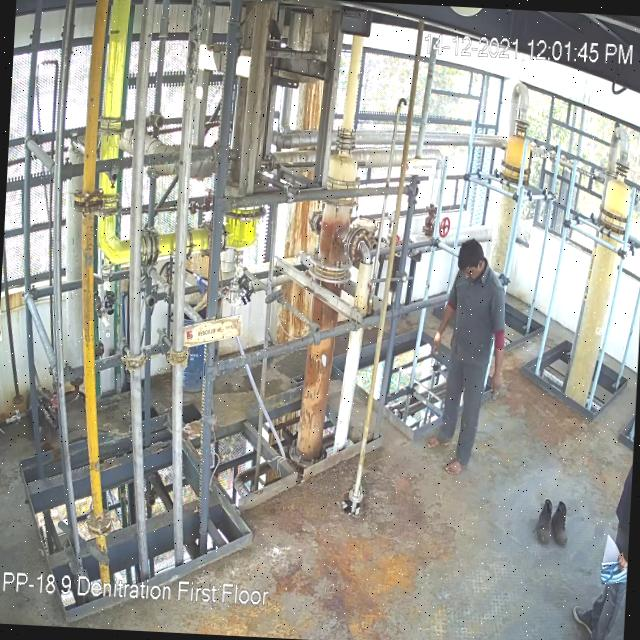boots: (534, 496, 559, 546), (552, 501, 572, 545)
no-boots: (444, 453, 466, 477)
